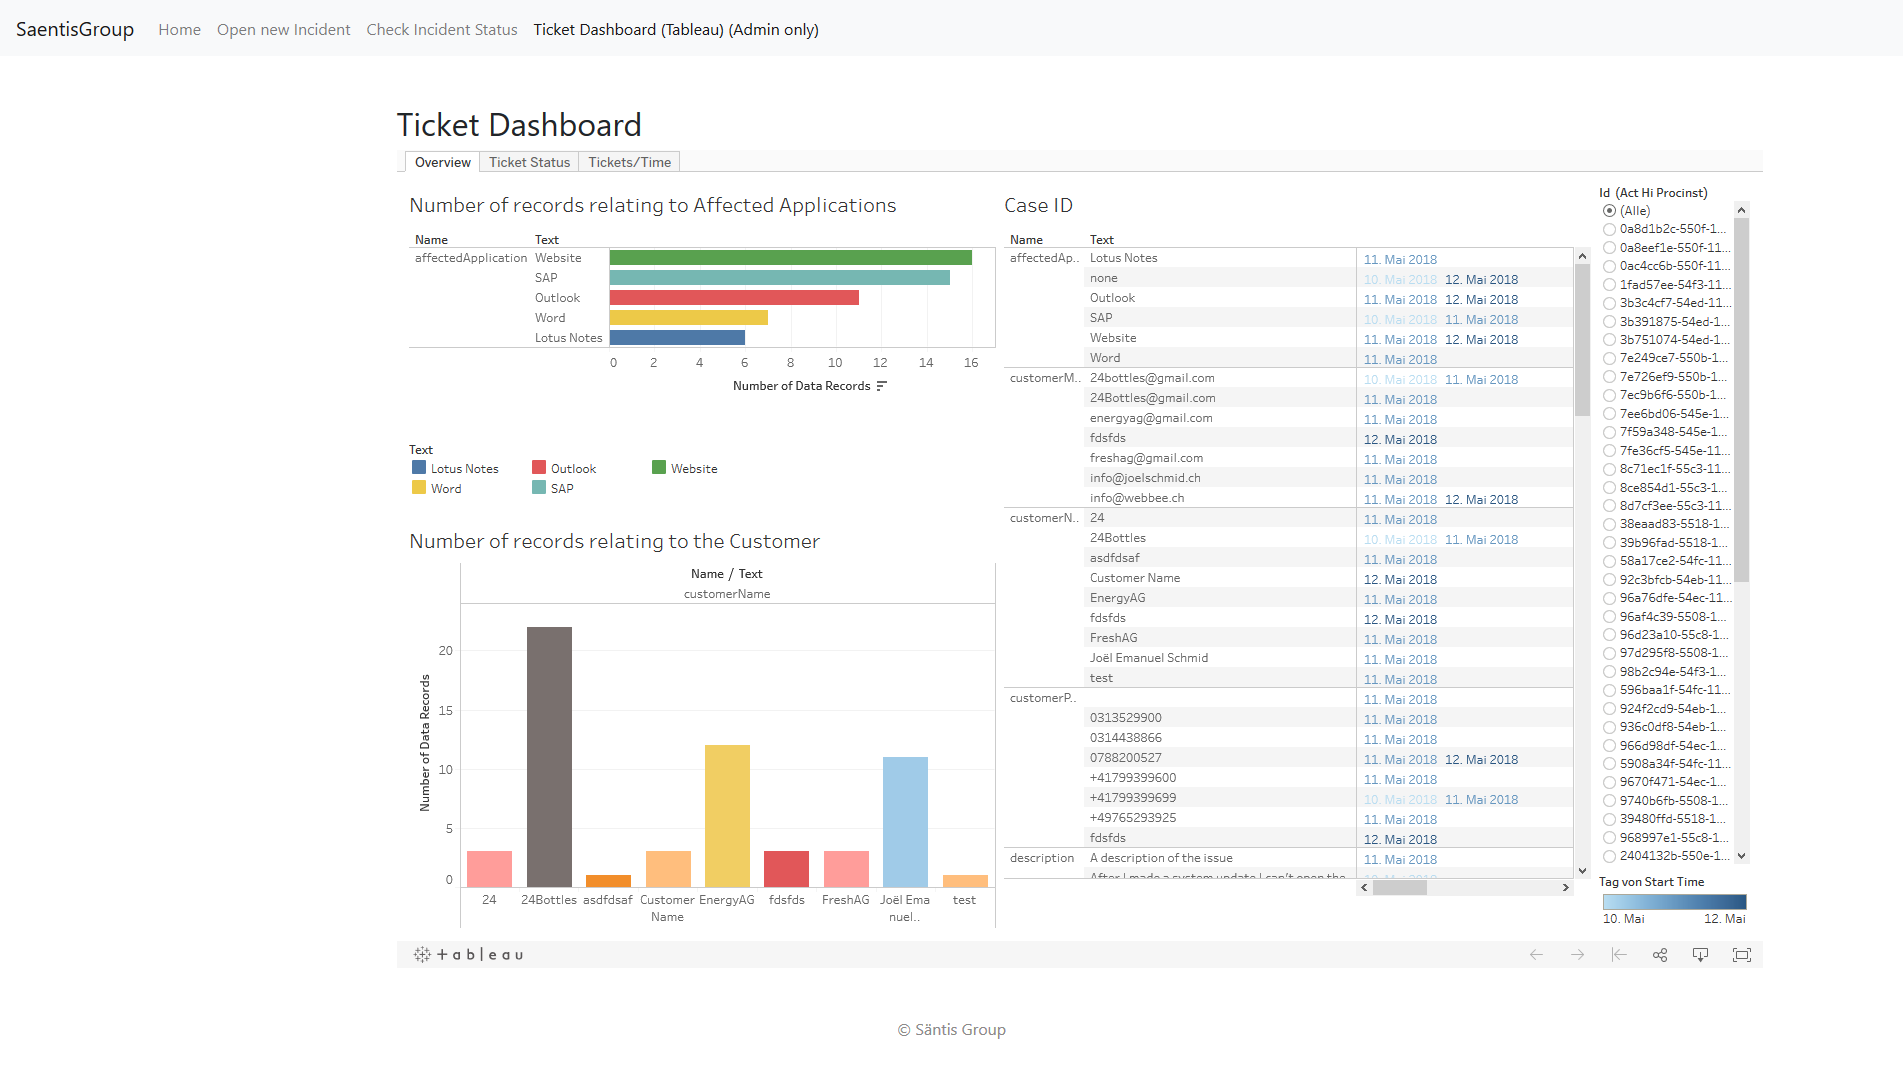

Layout of this report page (visuals, bound fields, positions):
{"tool":"tableau","page":{"name":"Overview","canvas":[1366,768],"ordinal":0},"visuals":[{"type":"worksheet","title":"Number of records relating to Affected Applications","mark":"Automatic","rows":["name_","text_"],"cols":["Number of Records"],"box":[8,8,595,256]},{"type":"worksheet","title":"Case ID ","mark":"Automatic","rows":["name_","text_"],"box":[603,8,595,720]},{"type":"filter","title":"Case ID ","param":"[federated.0r7vbwe0kou0w81d6x1o80aafghp].[none:id_ (act_hi_procinst):nk]","box":[1198,8,160,687]},{"type":"legend","title":"Number of records relating to Affected Applications","param":"[federated.0r7vbwe0kou0w81d6x1o80aafghp].[none:text_:nk]","box":[8,264,595,80]},{"type":"worksheet","title":"Number of records relating to the Customer","mark":"Automatic","rows":["Number of Records"],"cols":["name_","text_"],"box":[8,344,595,416]},{"type":"legend","title":"Case ID ","param":"[federated.0r7vbwe0kou0w81d6x1o80aafghp].[tdy:start_time_:qk]","box":[1198,695,160,65]}]}

Visuals, with their boxes on the page's 1366x768 design canvas (x1, y1, x2, y2). These are canvas units, not pixel positions in the 1903x1088 screenshot, which may show the page scaled, cropped or inside an application window:
"Number of records relating to Affected Applications" worksheet: {"x1": 8, "y1": 8, "x2": 603, "y2": 264}
"Case ID " worksheet: {"x1": 603, "y1": 8, "x2": 1198, "y2": 728}
"Case ID " filter: {"x1": 1198, "y1": 8, "x2": 1358, "y2": 695}
"Number of records relating to Affected Applications" legend: {"x1": 8, "y1": 264, "x2": 603, "y2": 344}
"Number of records relating to the Customer" worksheet: {"x1": 8, "y1": 344, "x2": 603, "y2": 760}
"Case ID " legend: {"x1": 1198, "y1": 695, "x2": 1358, "y2": 760}
